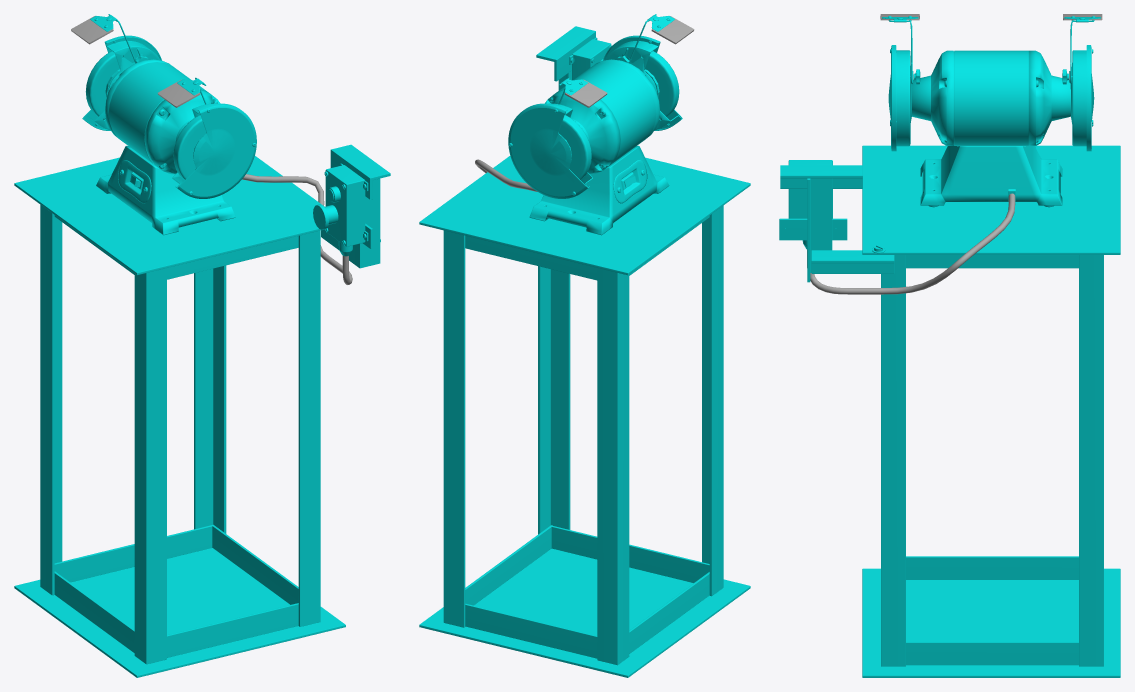
File: grinder and stand01.fbx
3 views of the same model, side by side, from view 1: azimuth 30°, elevation 25°; view 2: azimuth 150°, elevation 25°; view 3: azimuth 270°, elevation 25° (orthographic). The views are drawn at different scales.
Parts seen in each view (by area): view 1: polySurface14356, polySurface14325, polySurface14324, polySurface14346, polySurface14349; view 2: polySurface14356, polySurface14324, polySurface14325, polySurface14346, polySurface14349; view 3: polySurface14356.
Part boxes in pixels (left/top/right/bottom): polySurface14356: left=14, top=14, right=390, bottom=677; polySurface14325: left=85, top=51, right=123, bottom=120; polySurface14324: left=173, top=115, right=206, bottom=179; polySurface14346: left=157, top=78, right=204, bottom=107; polySurface14349: left=71, top=15, right=117, bottom=44; polySurface14356: left=419, top=14, right=750, bottom=677; polySurface14324: left=641, top=51, right=679, bottom=120; polySurface14325: left=559, top=115, right=591, bottom=179; polySurface14346: left=647, top=15, right=694, bottom=44; polySurface14349: left=560, top=78, right=607, bottom=107; polySurface14356: left=779, top=20, right=1120, bottom=677.
Size of the model in its own units: 53.96 by 127 by 66.06.
